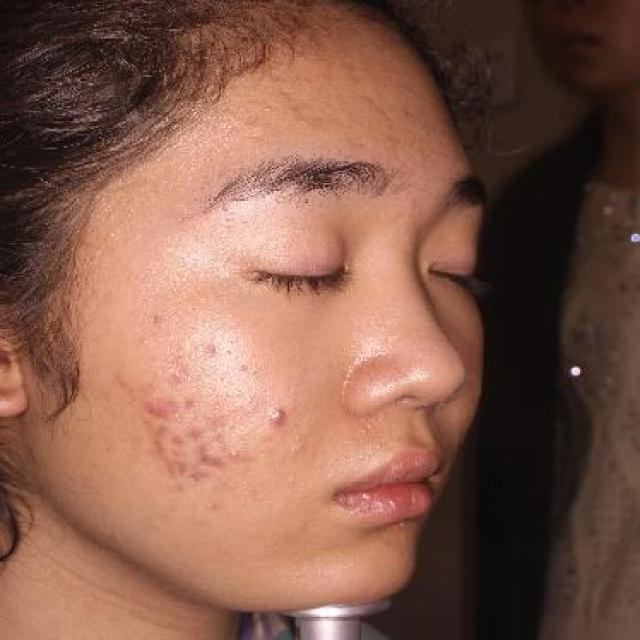dark spot: (134, 378, 183, 434)
papules: (264, 400, 292, 429)
